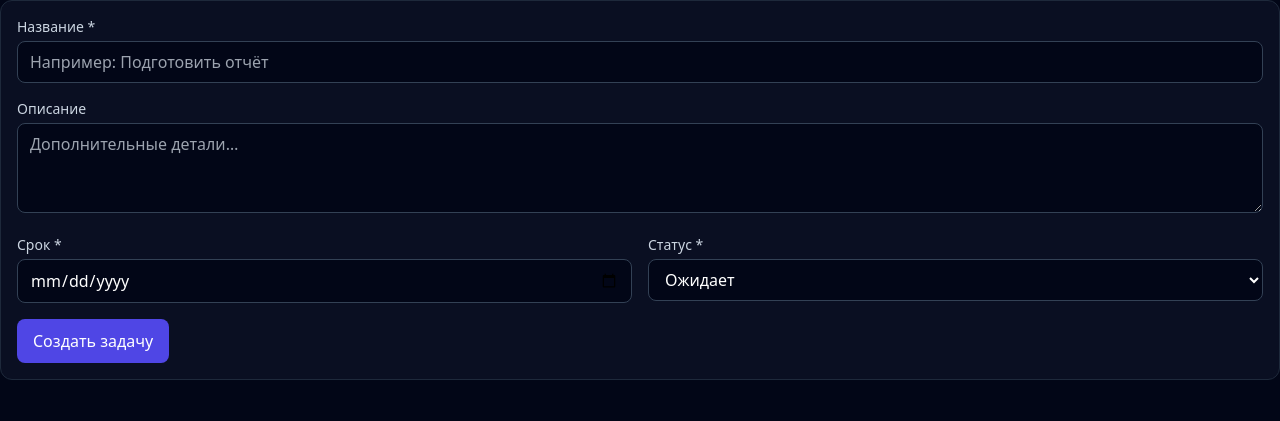
Scenario: TaskForm › показывает ошибку, если срок не указан
The width and height of the screenshot is (1280, 421).
Type "Валидное название" into the field with id "task-title" at (640, 62), box [17,41,1263,83]
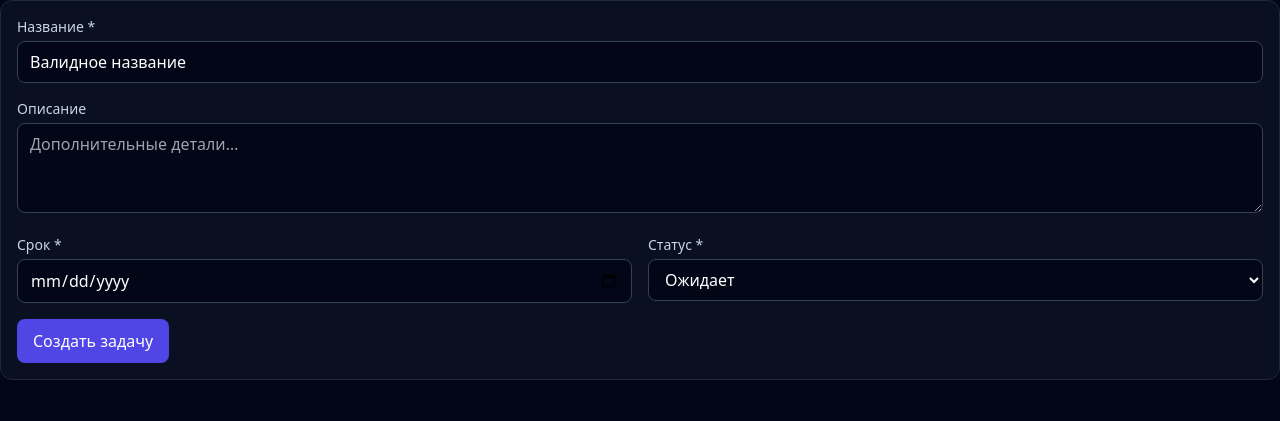
Submit the form
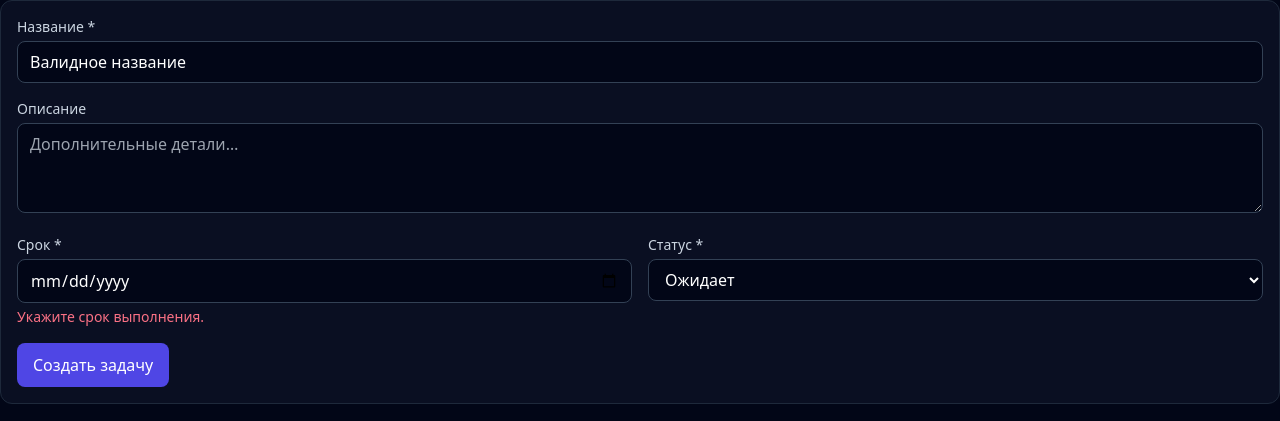
Expected: the form shows "Укажите срок выполнения.", [17,307,204,326]
